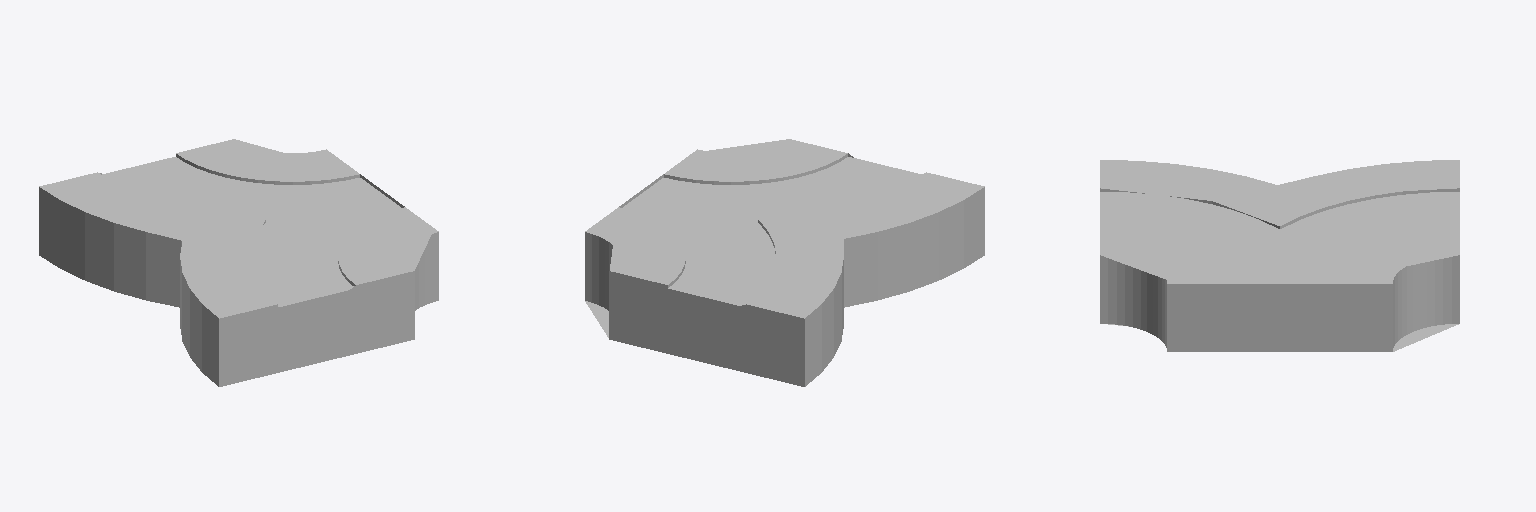
Rendered from roadTile_302.obj.
The picture shows the model from 3 angles: view 1: azimuth 30°, elevation 25°; view 2: azimuth 150°, elevation 25°; view 3: azimuth 270°, elevation 25°; orthographic projection.
Parts seen in each view (by area): view 1: Mesh1 Group1 Model; view 2: Mesh1 Group1 Model; view 3: Mesh1 Group1 Model.
Part boxes in pixels (bbox=[...]): Mesh1 Group1 Model: bbox=[39, 139, 438, 386]; Mesh1 Group1 Model: bbox=[585, 139, 984, 386]; Mesh1 Group1 Model: bbox=[1100, 160, 1459, 351].
Bounding box in the file's own units: 2.44 × 0.63 × 3.